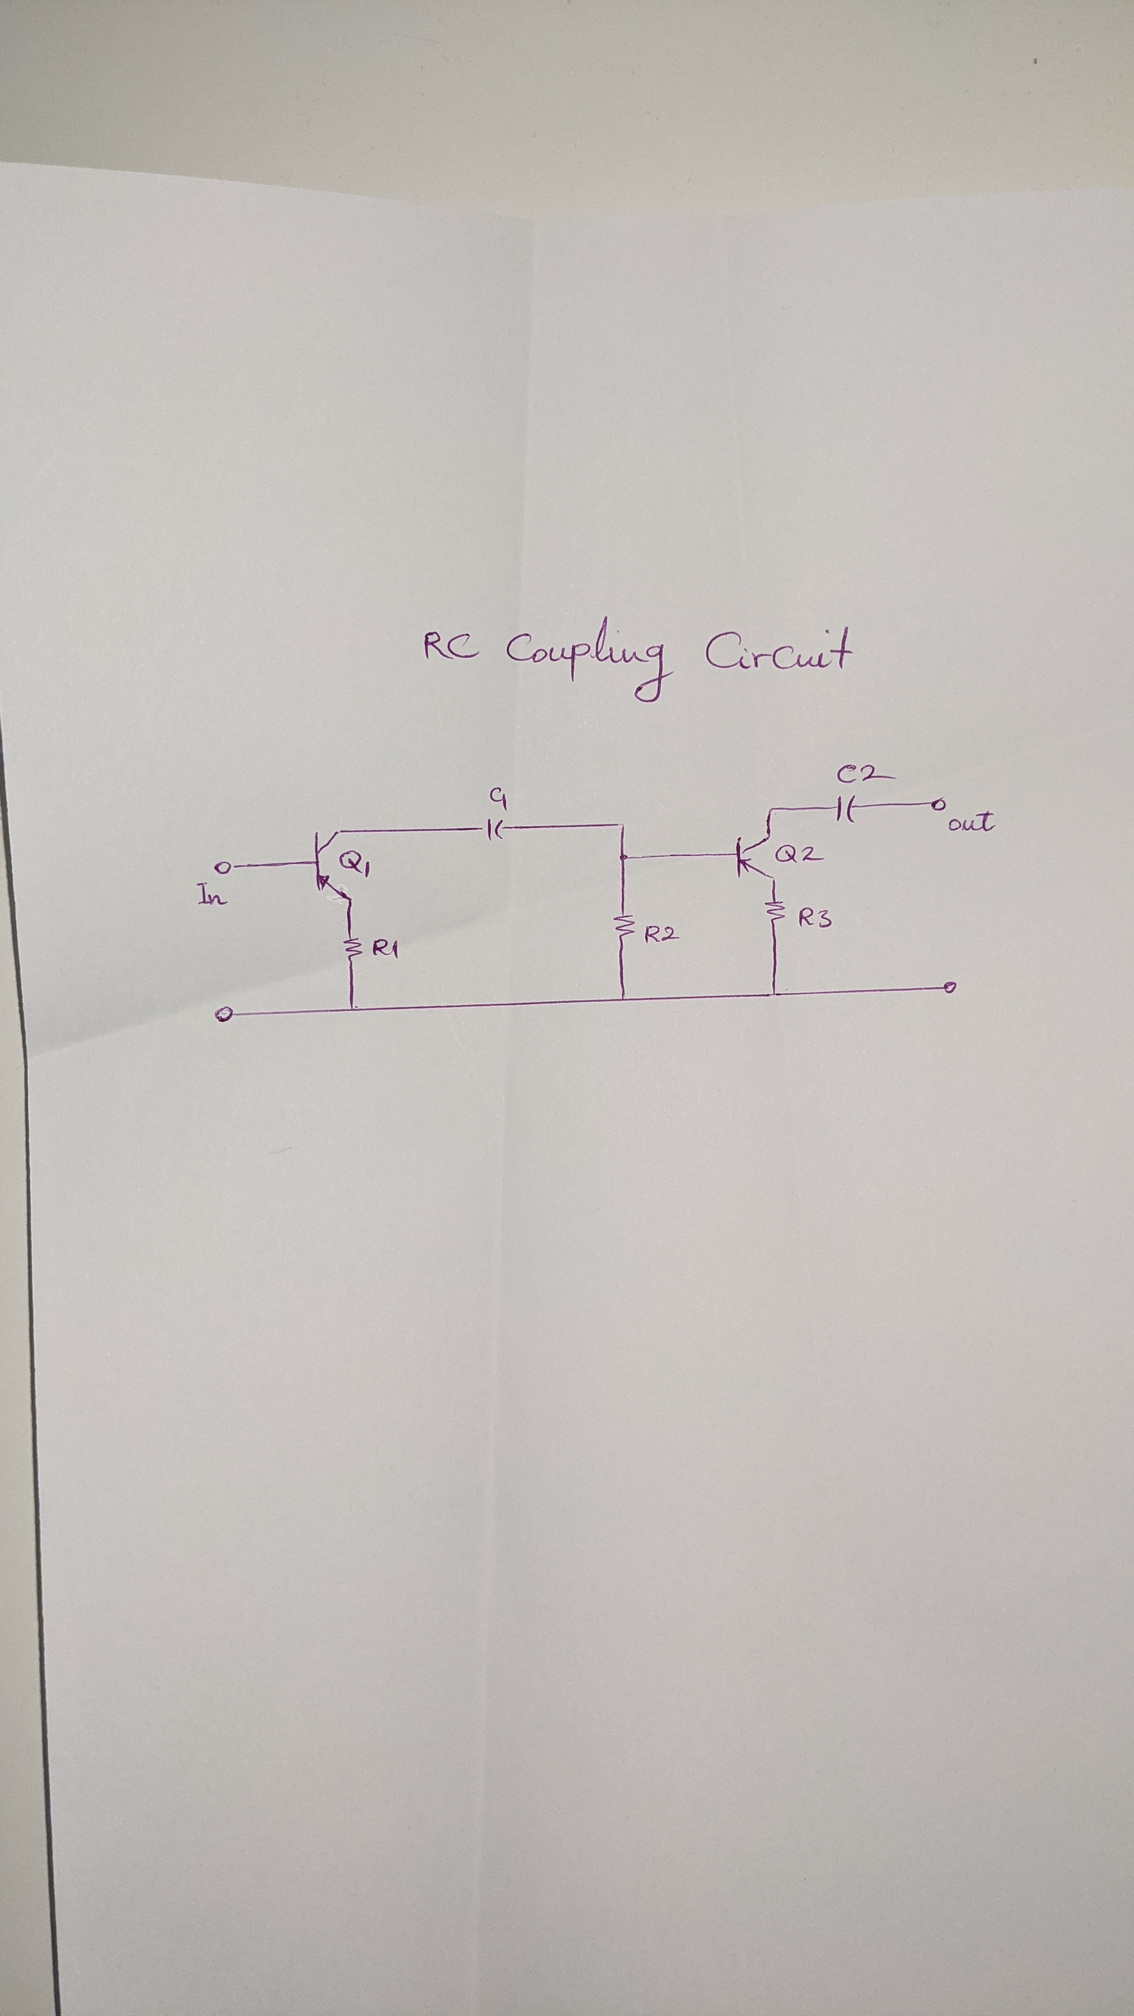capacitor.unpolarized: (832, 792, 860, 827), (479, 817, 510, 842)
junction: (618, 991, 629, 1004), (768, 987, 780, 1000), (613, 821, 627, 831), (618, 852, 629, 863), (348, 1001, 357, 1014), (766, 804, 777, 814)
resistor: (612, 912, 638, 943), (763, 899, 789, 925), (341, 935, 364, 964)
terminal: (212, 1004, 235, 1025), (212, 858, 235, 876), (928, 796, 947, 813), (942, 980, 960, 996)
text: (422, 612, 857, 703), (835, 762, 899, 785), (773, 842, 827, 867), (946, 809, 997, 834), (336, 847, 371, 881), (194, 881, 230, 907), (642, 922, 683, 946), (798, 906, 834, 930), (370, 936, 402, 961), (487, 785, 510, 813)
transistor: (312, 827, 356, 904), (732, 829, 780, 883)
